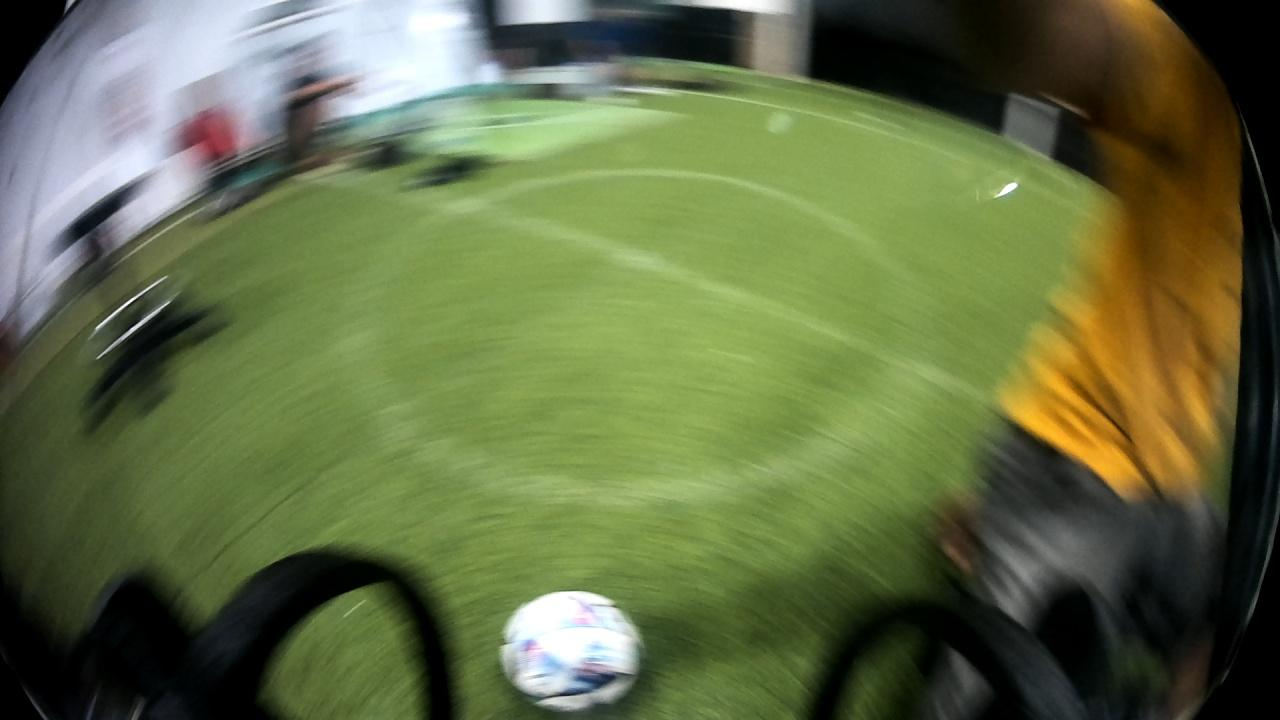ball: (493, 585, 652, 718)
